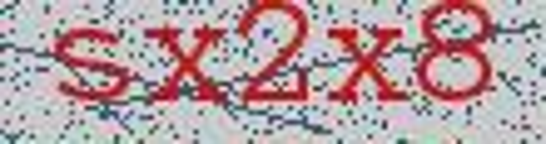2: (233, 1, 318, 132)
8: (415, 1, 512, 126)
s: (47, 15, 141, 124)
x: (322, 6, 416, 134), (138, 14, 238, 132)
